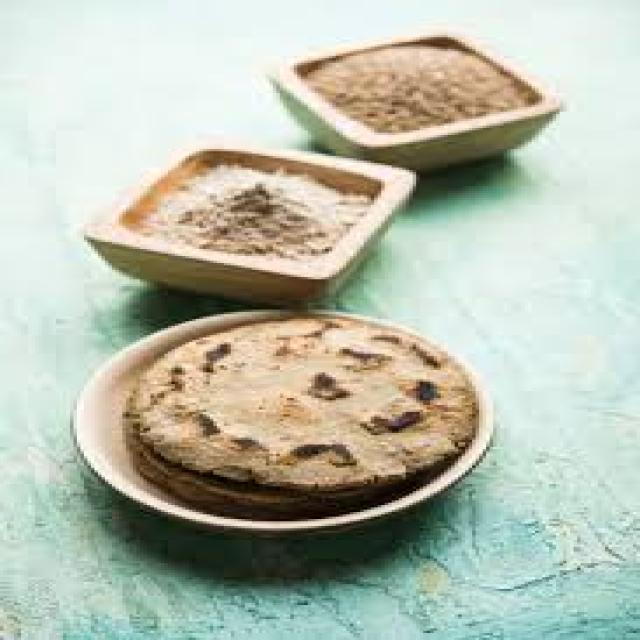ROTI: (122, 310, 476, 482)
